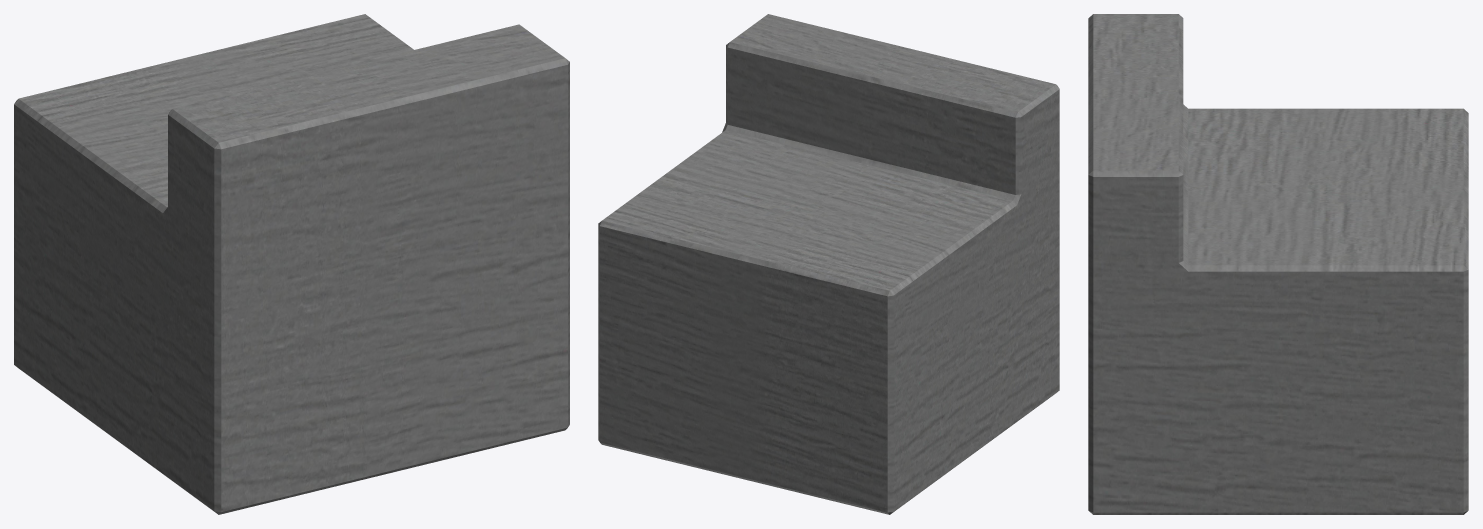
The model's file is KL_RooftopBlock.fbx.
3 views of the same model, side by side, from view 1: azimuth 30°, elevation 25°; view 2: azimuth 150°, elevation 25°; view 3: azimuth 270°, elevation 25° (orthographic). The views are drawn at different scales.
Visible parts, largest first — view 1: pCube4; view 2: pCube4; view 3: pCube4.
Boxes of the visible parts, left/top/right/bottom form: pCube4: left=14, top=14, right=569, bottom=514; pCube4: left=598, top=14, right=1059, bottom=514; pCube4: left=1088, top=14, right=1468, bottom=514.
Bounding box in the file's own units: 200 × 200 × 200.
1 material, 1 textured.
